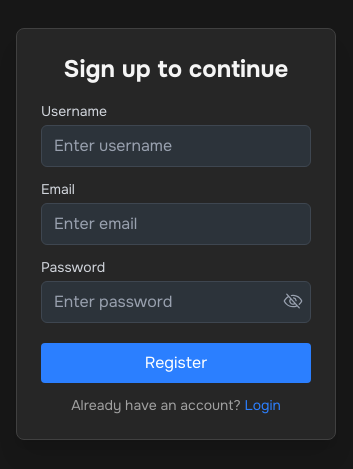
User Registration and Login Flow › Registration Form › shows validation error for short password
Type "testuser" into the field named "username" at (176, 146), box [41, 125, 311, 167]
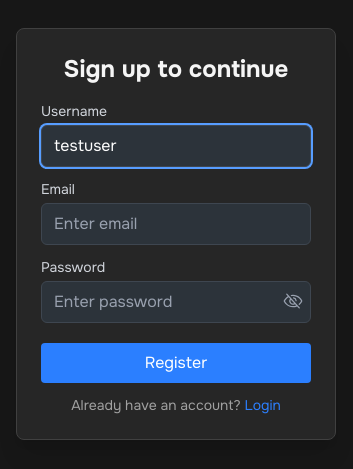
Type "user@example.com" into the field named "email" at (176, 224), box [41, 203, 311, 245]
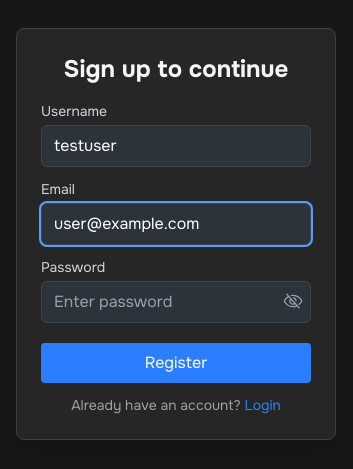
Type "123" into the password field named "password" at (176, 302), box [41, 281, 311, 323]
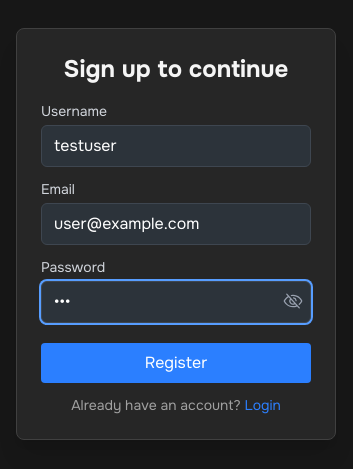
Click the button with test id "register-button" at (176, 363), box [41, 343, 311, 383]
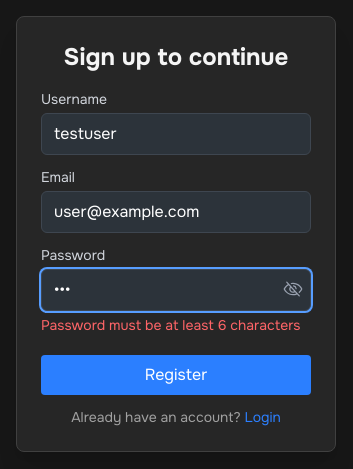
Result: the text "Password must be at least 6 characters" is shown at [41, 315, 311, 335]
